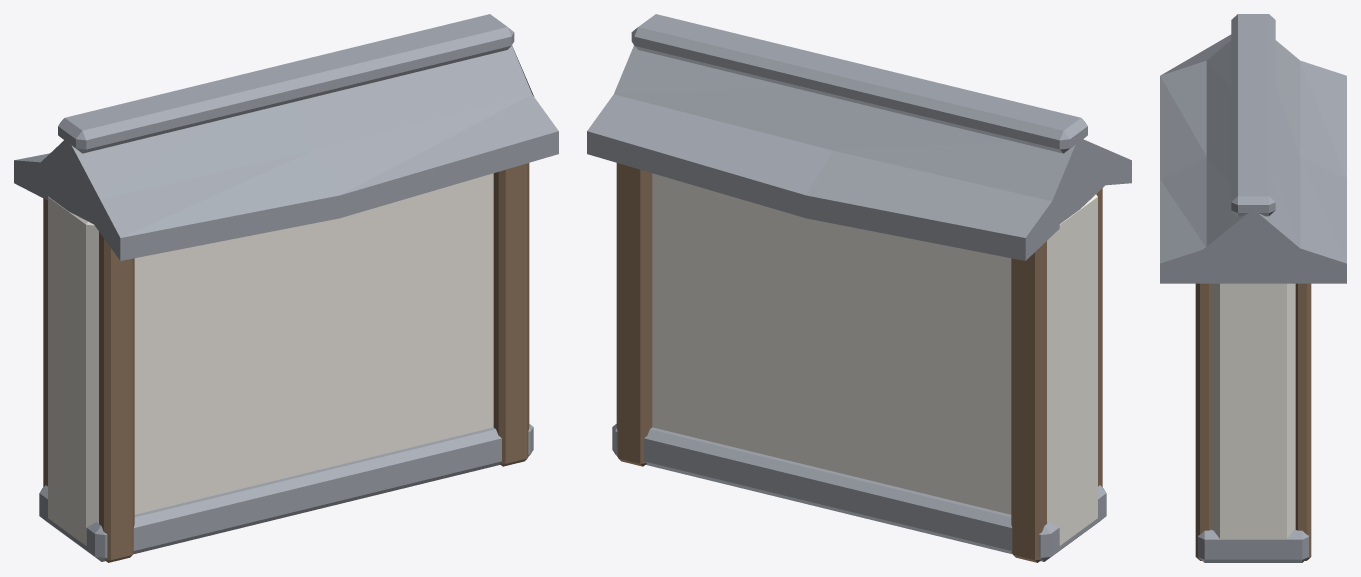
File: feudal-japan-castle-town-wall-walk-straight-2m-48508469__26574.glb
3 renders of one model, left to right at view 1: azimuth 30°, elevation 25°; view 2: azimuth 150°, elevation 25°; view 3: azimuth 270°, elevation 25°, orthographic. The views are drawn at different scales.
Visible parts, largest first — view 1: wall-walk-straight-2m; view 2: wall-walk-straight-2m; view 3: wall-walk-straight-2m.
Part boxes in pixels (left/top/right/bottom): wall-walk-straight-2m: left=14, top=14, right=558, bottom=562; wall-walk-straight-2m: left=587, top=14, right=1131, bottom=562; wall-walk-straight-2m: left=1160, top=14, right=1346, bottom=562.
Size of the model in its own units: 2 by 1.82 by 0.8399.
